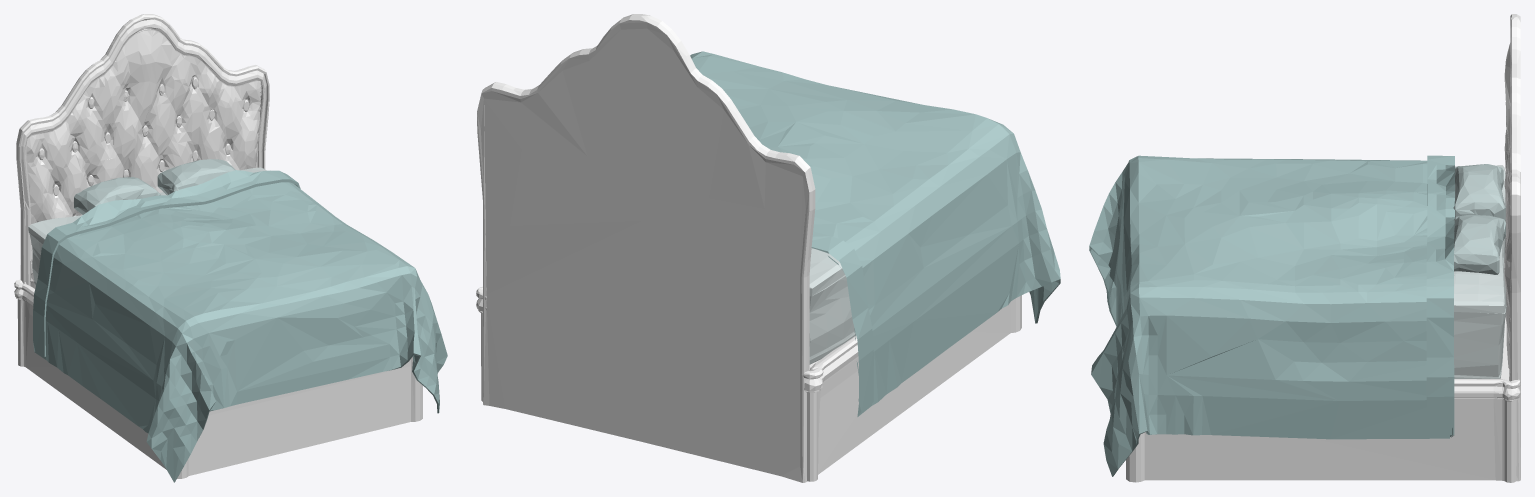
Rendered from sh-bs0-bed3.glb.
3 views of the same model, side by side, from view 1: azimuth 30°, elevation 25°; view 2: azimuth 150°, elevation 25°; view 3: azimuth 270°, elevation 25° (orthographic). The views are drawn at different scales.
Parts seen in each view (by area): view 1: Plane.002_Plane.002_Blanquet, Plane.003_Plane.003_Bed, Cube.004_Cube.006_Pillow, Cube.002_Cube.003_Mattress; view 2: Plane.003_Plane.003_Bed, Plane.002_Plane.002_Blanquet, Cube.002_Cube.003_Mattress; view 3: Plane.002_Plane.002_Blanquet, Plane.003_Plane.003_Bed, Cube.002_Cube.003_Mattress, Cube.004_Cube.006_Pillow.
Boxes of the visible parts, <box> form: Plane.002_Plane.002_Blanquet: <box>33,170,447,482</box>; Plane.003_Plane.003_Bed: <box>14,14,422,478</box>; Cube.004_Cube.006_Pillow: <box>74,159,235,214</box>; Cube.002_Cube.003_Mattress: <box>28,167,266,286</box>; Plane.003_Plane.003_Bed: <box>476,14,1021,482</box>; Plane.002_Plane.002_Blanquet: <box>690,51,1060,416</box>; Cube.002_Cube.003_Mattress: <box>809,248,855,364</box>; Plane.002_Plane.002_Blanquet: <box>1089,155,1455,476</box>; Plane.003_Plane.003_Bed: <box>1126,14,1520,482</box>; Cube.002_Cube.003_Mattress: <box>1454,165,1506,378</box>; Cube.004_Cube.006_Pillow: <box>1453,164,1505,274</box>.
Bounding box in the file's own units: 1 × 1 × 1.
